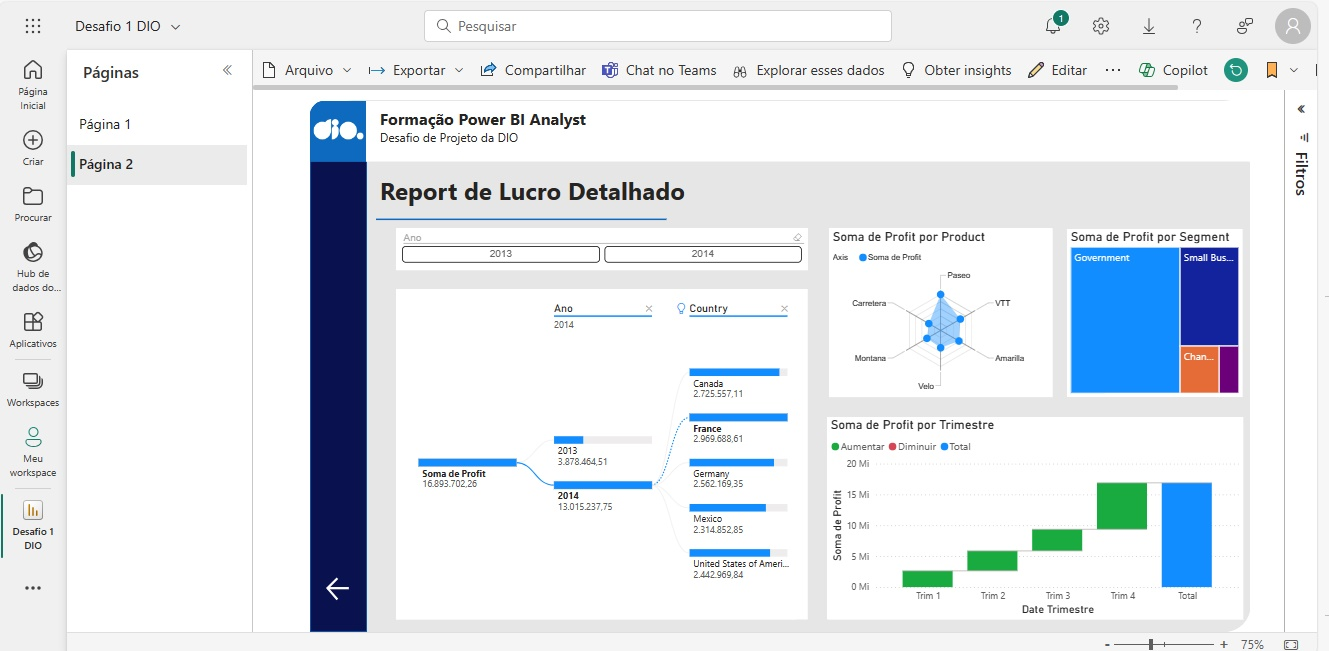

The page's visual inventory and layout, read from the dashboard file:
{"tool":"powerbi","page":{"name":"Página 2","canvas":[1280,720],"ordinal":1},"visuals":[{"type":"shape","box":[51.8,13,1228.3,707],"z":0},{"type":"shape","box":[118.1,143.5,385.9,56.7],"z":0,"group":"g1"},{"type":"textbox","box":[118,106.7,433.4,93.6],"z":1000,"group":"g1"},{"type":"shape","box":[30.2,15.1,75.6,705.5],"z":1000},{"type":"shape","box":[30.2,15.1,75.6,80.6],"z":2000},{"type":"image","title":"Logo dio","box":[30.2,10.1,75.6,82.3],"z":3000},{"type":"shape","box":[105.1,14.4,1175,80.6],"z":4000},{"type":"textbox","box":[117.6,18.5,436.7,65.5],"z":5000},{"type":"shape","box":[145.4,182.9,547.2,56.2],"z":6000},{"type":"shape","box":[720,434.9,550.1,269.3],"z":7000},{"type":"group","id":"g1","title":"Title Report","box":[118,106.7,433.4,93.6],"z":8000},{"type":"actionButton","box":[47.5,642.2,40.3,41.8],"z":9000},{"type":"shape","box":[145.4,265,547.2,439.2],"z":10000},{"type":"shape","box":[720,182.9,296.6,224.6],"z":11000},{"type":"ChicletSlicer1448559807354","fields":{"Category":["financials.Date.Variation.Hierarquia de datas.Ano"]},"box":[145.4,182.9,547.2,56.2],"z":12000},{"type":"decompositionTreeVisual","fields":{"Analyze":["Sum(financials.Profit)"],"ExplainBy":["financials.Date.Variation.Hierarquia de datas.Ano","financials.Country"]},"box":[145.4,265,531.4,439.2],"z":13000},{"type":"shape","box":[1036.8,184.3,233.3,223.2],"z":14000},{"type":"RadarChart1446119667547","fields":{"Category":["financials.Product"],"Y":["Sum(financials.Profit)"]},"box":[720,184.3,296.6,223.2],"z":15000},{"type":"treemap","fields":{"Group":["financials.Segment"],"Values":["Sum(financials.Profit)"]},"box":[1036.8,184.3,233.3,223.2],"z":16000},{"type":"waterfallChart","fields":{"Category":["financials.Date.Variation.Hierarquia de datas.Trimestre"],"Y":["Sum(financials.Profit)"]},"box":[717.1,434.9,553,269.3],"z":17000}]}

Visuals, with their boxes on the page's 1280x720 design canvas (x1, y1, x2, y2). These are canvas units, not pixel positions in the 1329x651 screenshot, which may show the page scaled, cropped or inside an application window:
shape: Rect(52, 13, 1280, 720)
shape: Rect(118, 144, 504, 200)
textbox: Rect(118, 107, 551, 200)
shape: Rect(30, 15, 106, 721)
shape: Rect(30, 15, 106, 96)
"Logo dio" image: Rect(30, 10, 106, 92)
shape: Rect(105, 14, 1280, 95)
textbox: Rect(118, 18, 554, 84)
shape: Rect(145, 183, 693, 239)
shape: Rect(720, 435, 1270, 704)
"Title Report" group: Rect(118, 107, 551, 200)
actionButton: Rect(48, 642, 88, 684)
shape: Rect(145, 265, 693, 704)
shape: Rect(720, 183, 1017, 408)
ChicletSlicer1448559807354 - financials.Date.Variation.Hierarquia de datas.Ano: Rect(145, 183, 693, 239)
decompositionTreeVisual - Sum(financials.Profit) x financials.Date.Variation.Hierarquia de datas.Ano: Rect(145, 265, 677, 704)
shape: Rect(1037, 184, 1270, 408)
RadarChart1446119667547 - financials.Product x Sum(financials.Profit): Rect(720, 184, 1017, 408)
treemap - financials.Segment x Sum(financials.Profit): Rect(1037, 184, 1270, 408)
waterfallChart - financials.Date.Variation.Hierarquia de datas.Trimestre x Sum(financials.Profit): Rect(717, 435, 1270, 704)
